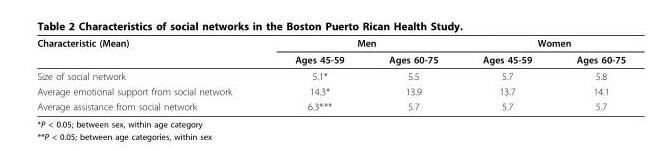table: (36, 36, 625, 111)
table column: (36, 36, 262, 111), (262, 36, 365, 111), (365, 36, 459, 111), (459, 36, 553, 111), (553, 36, 625, 111)
table column header: (36, 36, 625, 67)
table row: (36, 50, 625, 67), (36, 67, 625, 83), (36, 36, 625, 50), (36, 83, 625, 97), (36, 97, 625, 111)
table spanning cell: (36, 36, 262, 67), (262, 36, 459, 50), (459, 36, 625, 50)
